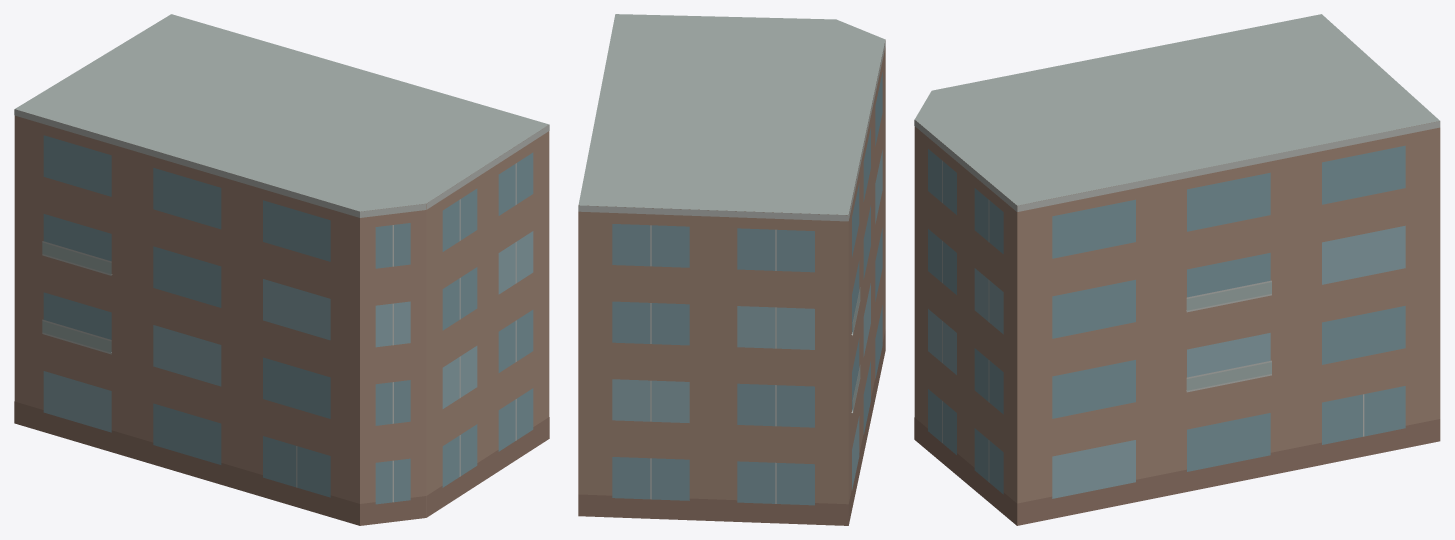
The model's file is survey-upis-32708315.glb.
3 views of the same model, side by side, from view 1: azimuth 30°, elevation 25°; view 2: azimuth 150°, elevation 25°; view 3: azimuth 270°, elevation 25° (orthographic). The views are drawn at different scales.
Parts seen in each view (by area): view 1: survey-upis-32708315.tmp; view 2: survey-upis-32708315.tmp; view 3: survey-upis-32708315.tmp.
Part boxes in pixels (<box>): survey-upis-32708315.tmp: <box>14,14,549,525</box>; survey-upis-32708315.tmp: <box>578,14,885,525</box>; survey-upis-32708315.tmp: <box>914,14,1440,525</box>.
Size of the model in its own units: 15.41 by 12 by 17.86.
